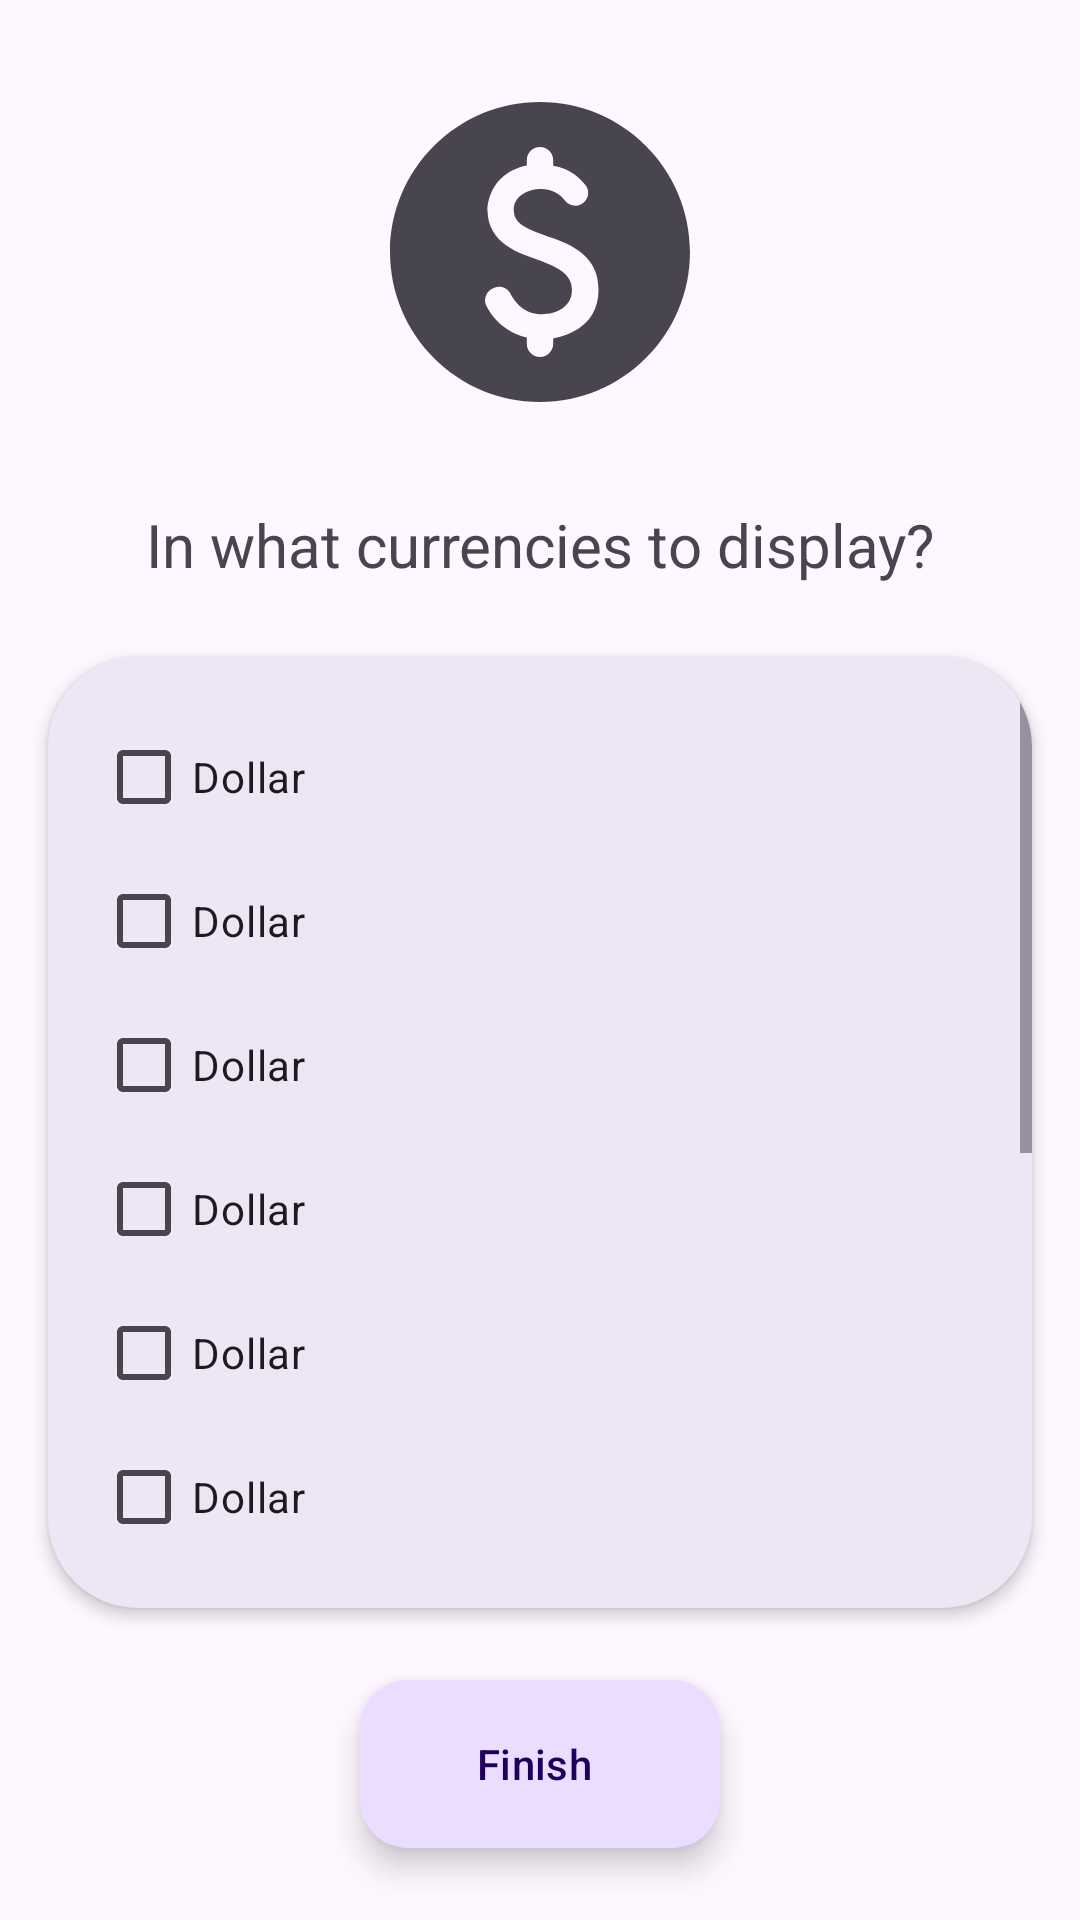

Where to tap for icons on this 1080×1920 app screen, as [x,y]:
coin: [540,252]
